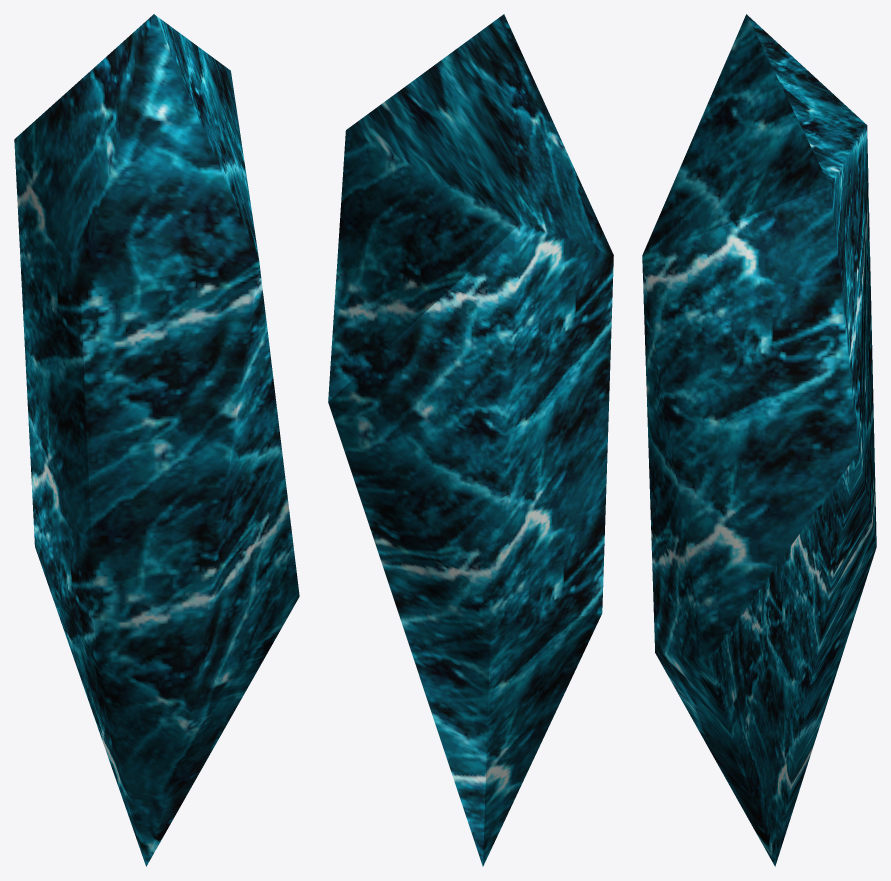
File: c_Cris1.glb
3 views of the same model, side by side, from view 1: azimuth 30°, elevation 25°; view 2: azimuth 150°, elevation 25°; view 3: azimuth 270°, elevation 25° (orthographic). The views are drawn at different scales.
Parts seen in each view (by area): view 1: c_Cris1-col; view 2: c_Cris1-col; view 3: c_Cris1-col.
Part boxes in pixels (bbox=[...]): c_Cris1-col: bbox=[14, 14, 299, 866]; c_Cris1-col: bbox=[328, 14, 613, 866]; c_Cris1-col: bbox=[642, 14, 876, 866].
Bounding box in the file's own units: 0.2861 × 1.08 × 0.2706.
Materials: 1 (1 with a texture image).
